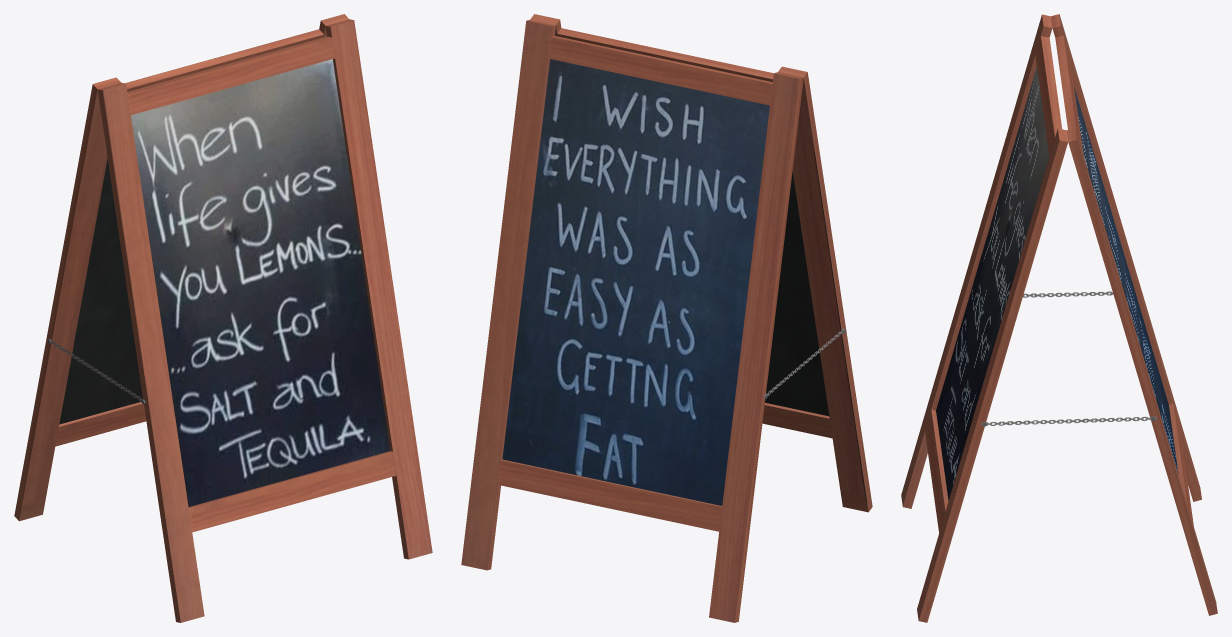
The model's file is sign31.glb.
3 renders of one model, left to right at view 1: azimuth 30°, elevation 25°; view 2: azimuth 150°, elevation 25°; view 3: azimuth 270°, elevation 25°, orthographic. The views are drawn at different scales.
Parts seen in each view (by area): view 1: Fat_LemonsLP1_Fat_Lemons_T_0, Fat_LemonsLP1_Naked_Hipsters_T_0; view 2: Fat_LemonsLP1_Fat_Lemons_T_0, Fat_LemonsLP1_Naked_Hipsters_T_0; view 3: Fat_LemonsLP1_Naked_Hipsters_T_0, Fat_LemonsLP1_Fat_Lemons_T_0, Fat_LemonsLP1_Chain_0.
Boxes of the visible parts, <box> form: Fat_LemonsLP1_Fat_Lemons_T_0: <box>131,59,390,506</box>; Fat_LemonsLP1_Naked_Hipsters_T_0: <box>14,14,432,622</box>; Fat_LemonsLP1_Fat_Lemons_T_0: <box>502,59,769,505</box>; Fat_LemonsLP1_Naked_Hipsters_T_0: <box>461,14,872,622</box>; Fat_LemonsLP1_Naked_Hipsters_T_0: <box>901,14,1217,622</box>; Fat_LemonsLP1_Fat_Lemons_T_0: <box>936,66,1178,500</box>; Fat_LemonsLP1_Chain_0: <box>981,291,1156,425</box>.
Size of the model in its own units: 0.7169 by 1.2 by 0.7198.
3 materials, 3 textured.
